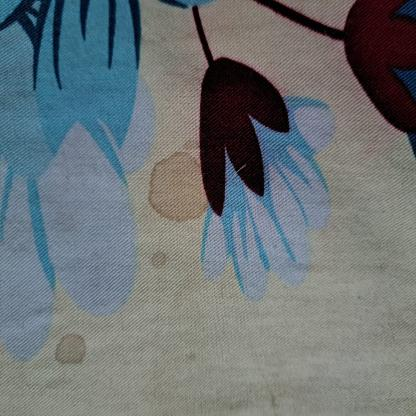spot: (148, 146, 212, 225), (54, 332, 101, 367), (265, 379, 282, 411), (149, 250, 168, 268), (190, 344, 198, 370)
